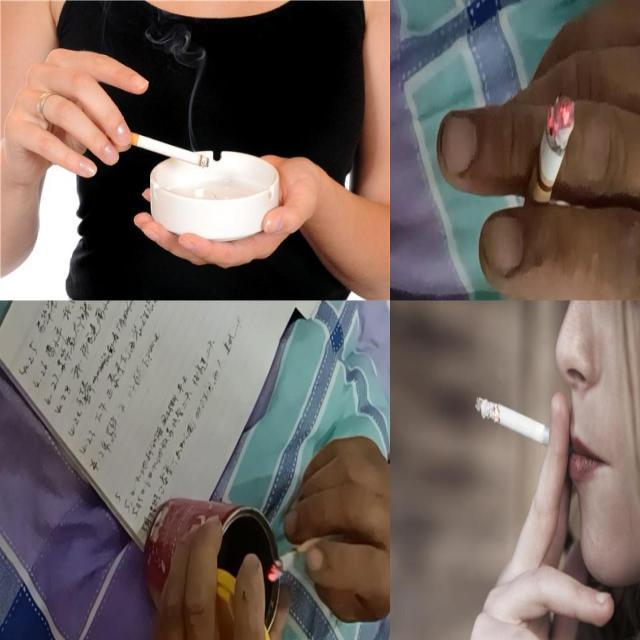cigarette: (518, 92, 576, 229), (472, 390, 570, 456), (104, 126, 210, 170), (266, 538, 328, 584)
